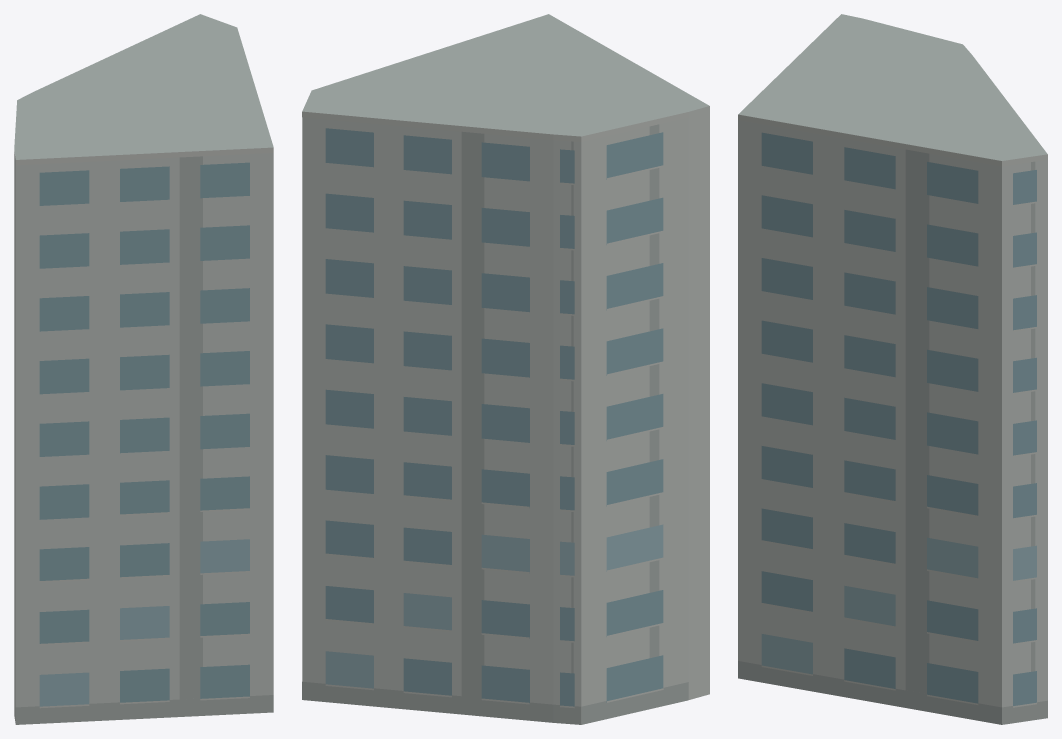
Rendered from survey-upis-33040307.glb.
The picture shows the model from 3 angles, left to right: view 1: azimuth 30°, elevation 25°; view 2: azimuth 150°, elevation 25°; view 3: azimuth 270°, elevation 25°; orthographic projection. The views are drawn at different scales.
Parts seen in each view (by area): view 1: survey-upis-33040307.tmp; view 2: survey-upis-33040307.tmp; view 3: survey-upis-33040307.tmp.
Part boxes in pixels (<box>): survey-upis-33040307.tmp: <box>14,14,273,724</box>; survey-upis-33040307.tmp: <box>302,14,709,724</box>; survey-upis-33040307.tmp: <box>738,14,1047,724</box>.
Bounding box in the file's own units: 14.21 × 25.4 × 12.66.
